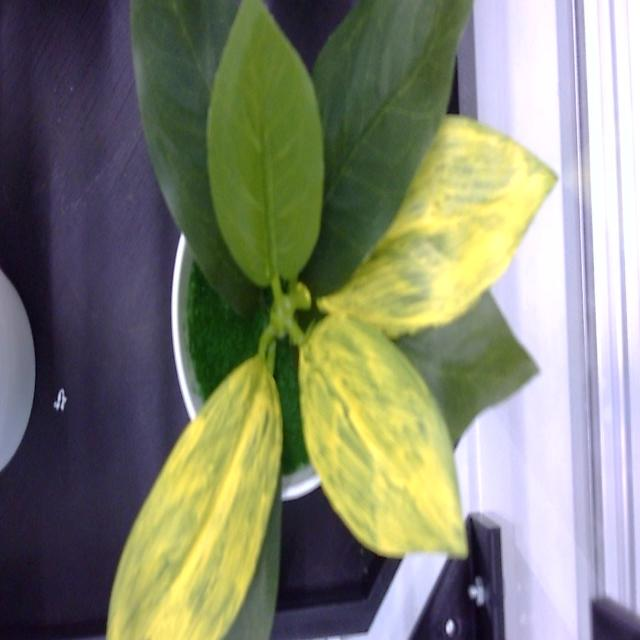Green: (301, 0, 470, 298), (131, 0, 260, 315), (207, 0, 324, 340)
Yellow: (320, 120, 556, 340), (108, 349, 282, 639), (300, 313, 466, 556)
